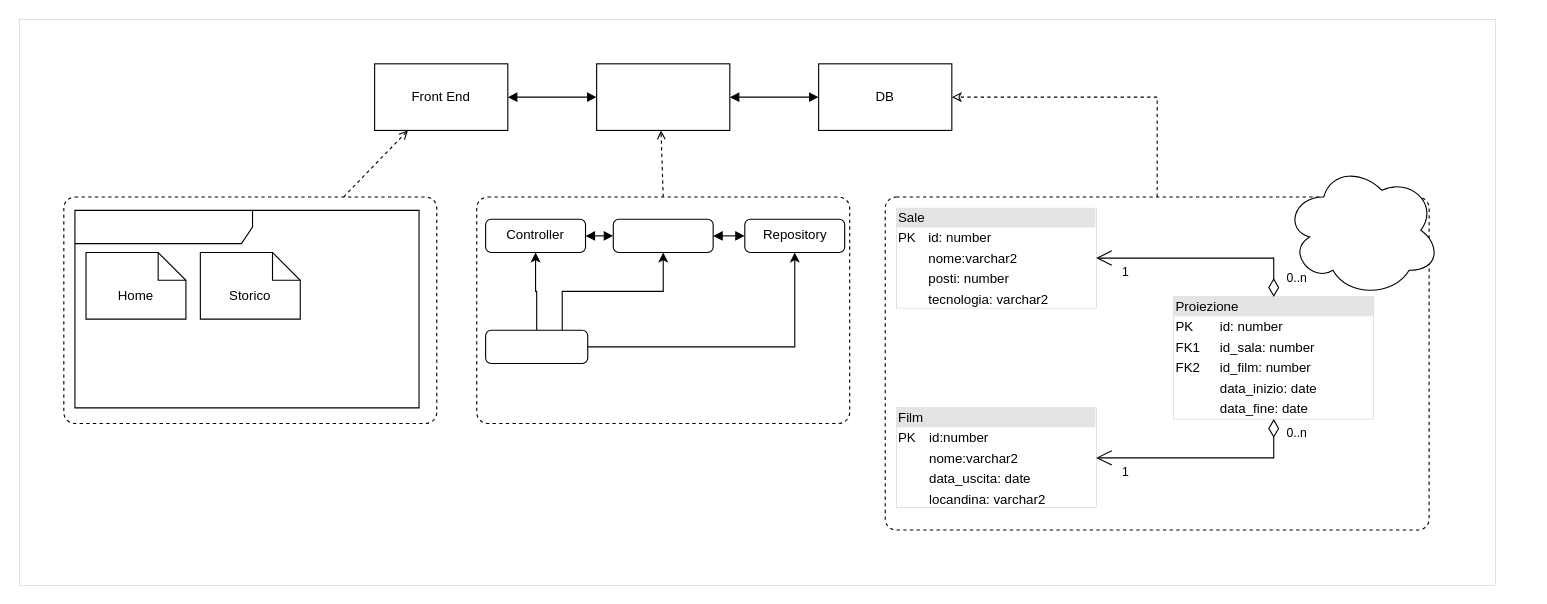
Image size: 1547x604. Some labels were removed from this diagram. Here are the shapes that lost their labels. From the top down, the box of each, then its label:
(596, 63, 730, 130): Back End
(612, 218, 713, 253): Service
(1284, 163, 1440, 297): Ogni tabella corrisponderà ad un file excel
(74, 209, 419, 408): SPA
(485, 329, 588, 364): Models
